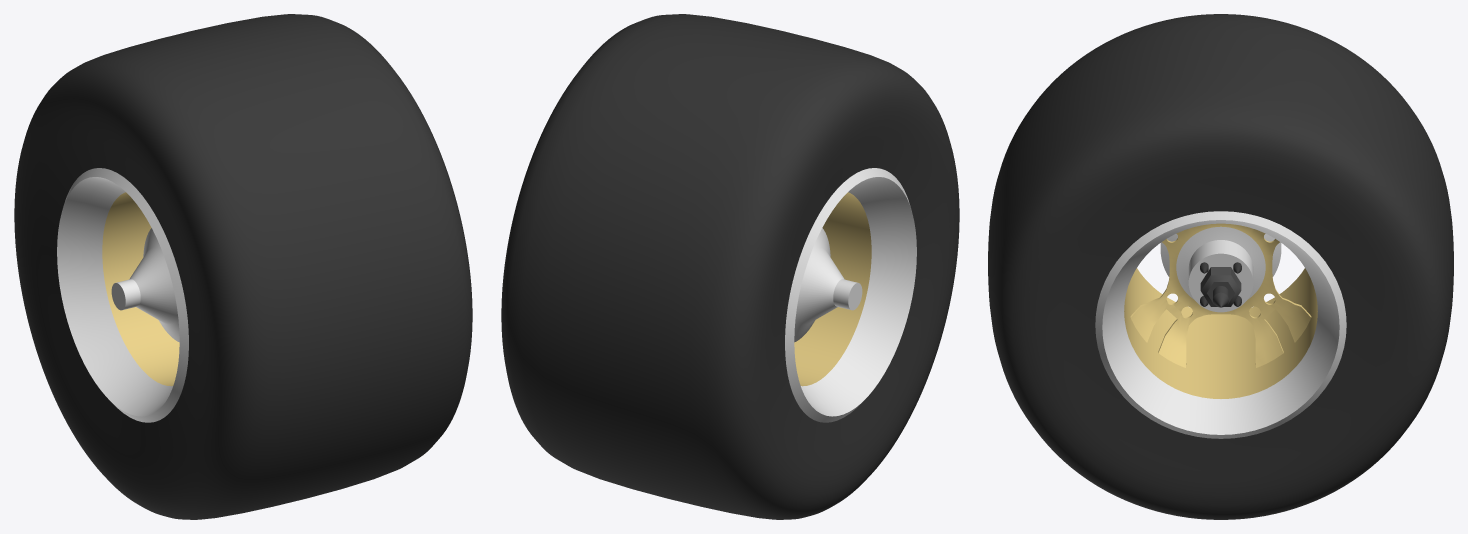
Rendered from slick2.fbx.
3 views of the same model, side by side, from view 1: azimuth 30°, elevation 25°; view 2: azimuth 150°, elevation 25°; view 3: azimuth 270°, elevation 25° (orthographic). The views are drawn at different scales.
Parts seen in each view (by area): view 1: Cylinder; view 2: Cylinder; view 3: Cylinder.
Part boxes in pixels (left/top/right/bottom): Cylinder: left=14, top=14, right=472, bottom=519; Cylinder: left=501, top=14, right=959, bottom=519; Cylinder: left=988, top=14, right=1453, bottom=519.
Size of the model in its own units: 209 by 346 by 346.
